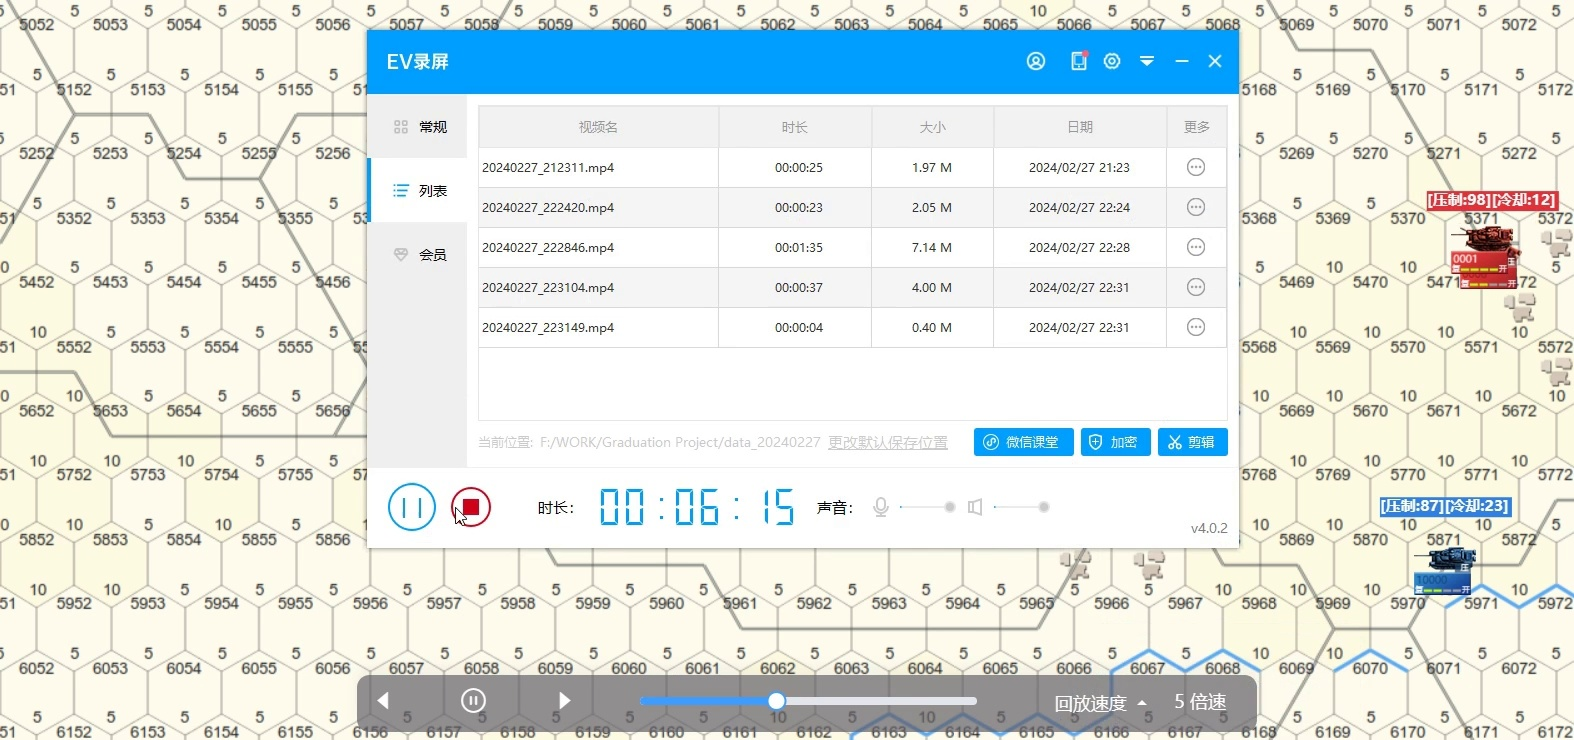blue_tank: (1418, 543, 1481, 596)
red_tank: (1450, 225, 1523, 285)
